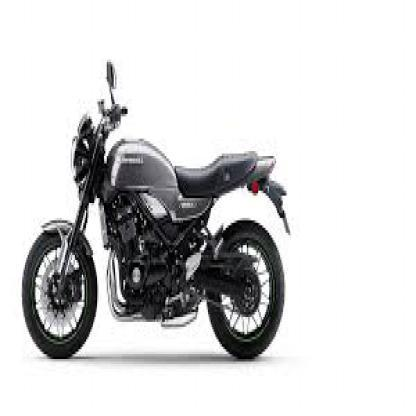Motorcycle: (17, 57, 295, 374)
